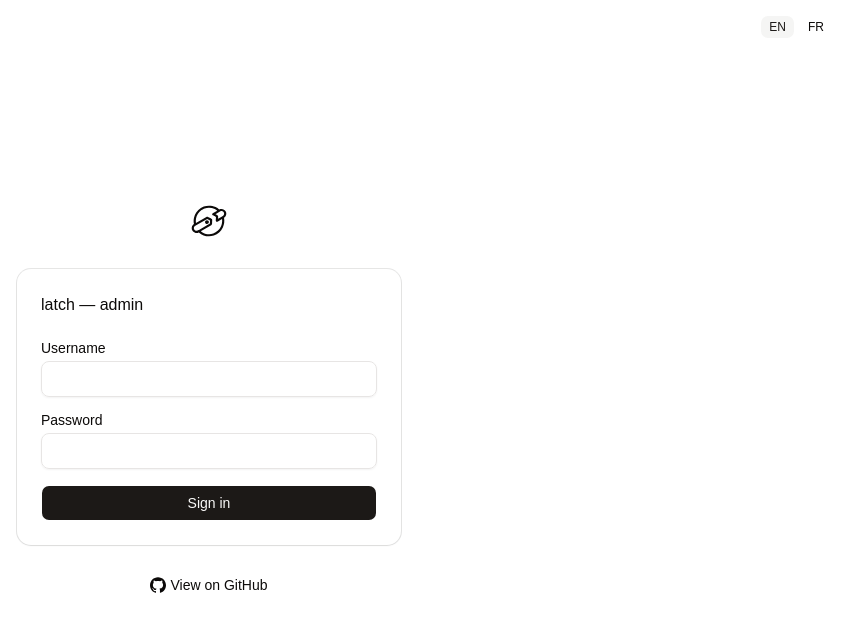
Scenario: LoginPage › shows error message on 401
The image size is (841, 628).
Type "admin" into the field labelled "Username".
click(209, 379); type("admin")  # box x1=41 y1=361 x2=377 y2=397
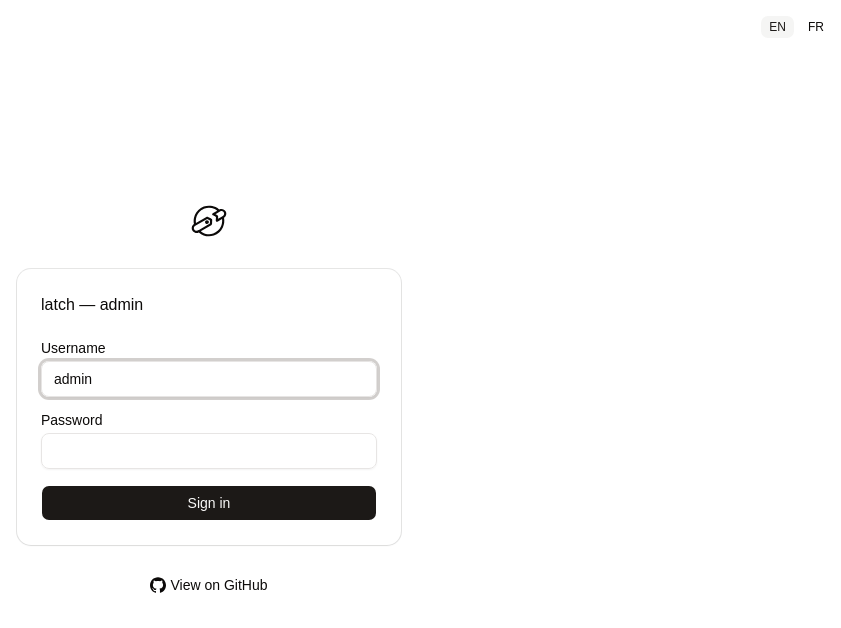
Type "wrong" into the password field labelled "Password".
click(209, 451); type("wrong")  # box x1=41 y1=433 x2=377 y2=469
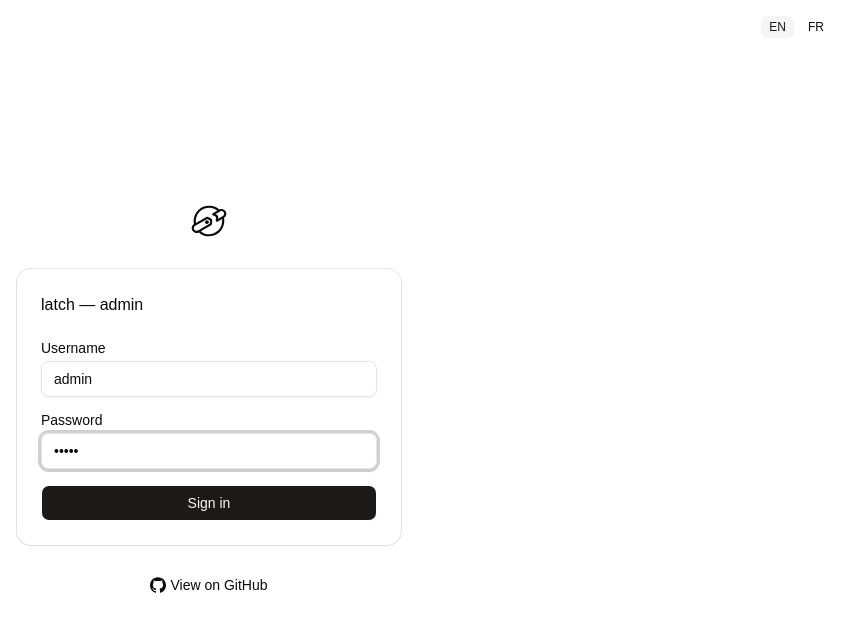
Click the button "Sign in".
click(209, 503)  # box x1=41 y1=485 x2=377 y2=521
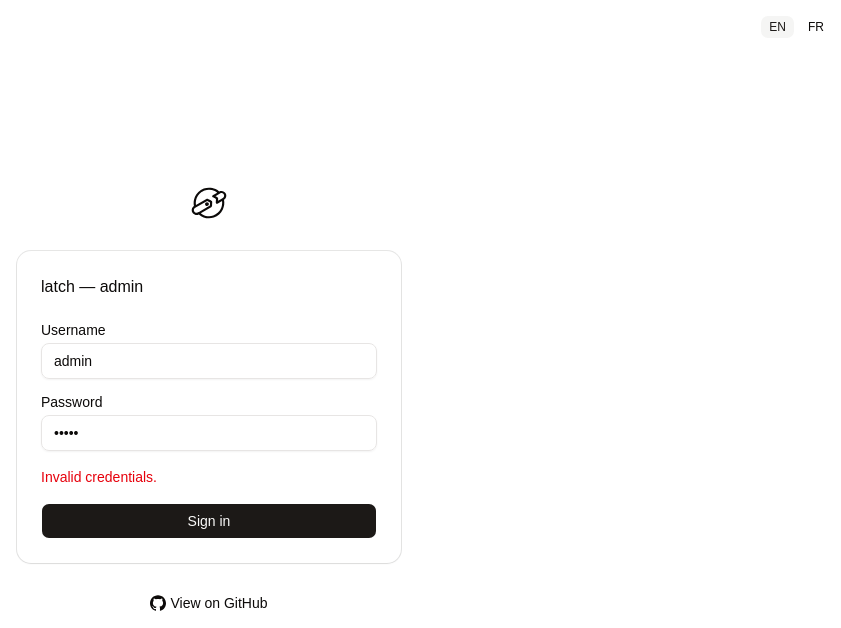
Expected: the button "Sign in" is shown, x1=41 y1=503 x2=377 y2=539
Result: the text "Invalid credentials." is shown at x1=41 y1=469 x2=157 y2=485
